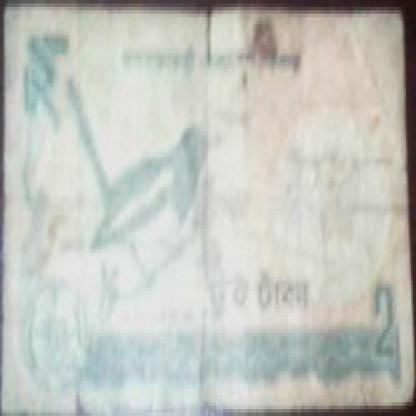two taka: (368, 284, 414, 382), (25, 42, 75, 128)
